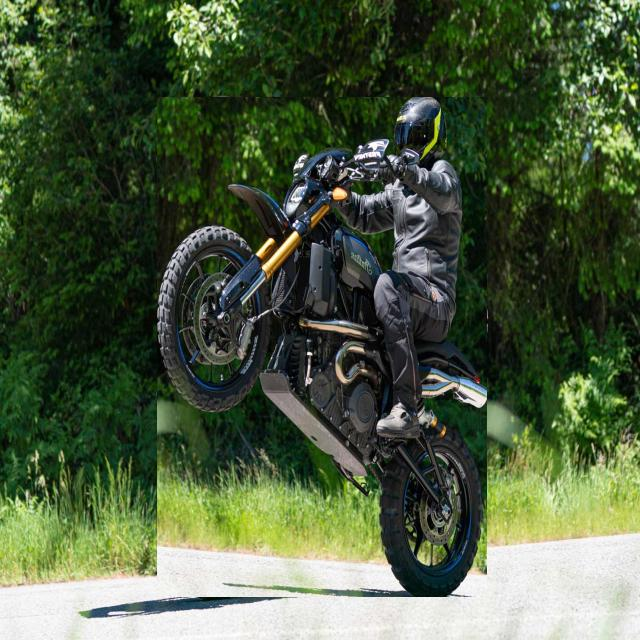motorcycle: (158, 97, 487, 597)
